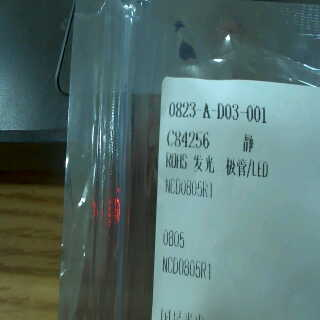LED: (188, 152, 283, 175)
